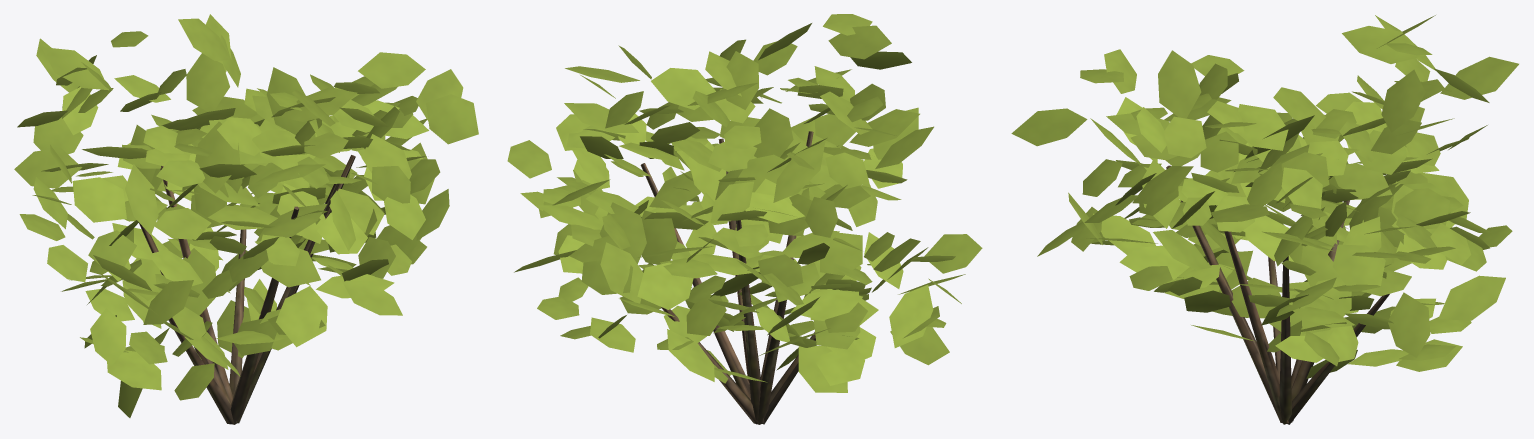
Rendered from Bush_A.glb.
The picture shows the model from 3 angles, left to right: view 1: azimuth 30°, elevation 25°; view 2: azimuth 150°, elevation 25°; view 3: azimuth 270°, elevation 25°; orthographic projection. The views are drawn at different scales.
Parts seen in each view (by area): view 1: Bush_A; view 2: Bush_A; view 3: Bush_A.
Boxes of the visible parts, box(x1,y1,x2,y2) form: Bush_A: box(14, 14, 478, 424); Bush_A: box(507, 14, 982, 424); Bush_A: box(1011, 15, 1518, 424).
Size of the model in its own units: 1.64 by 1.4 by 1.73.
1 material, 1 textured.
